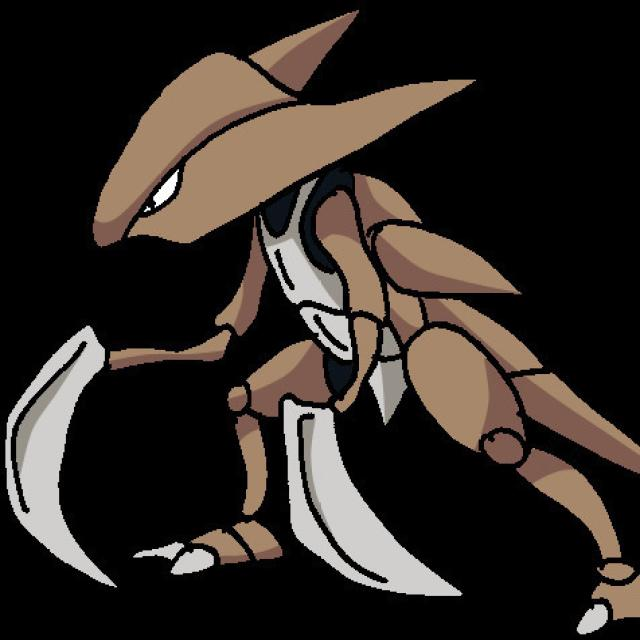Kabutops: (46, 51, 546, 597)
